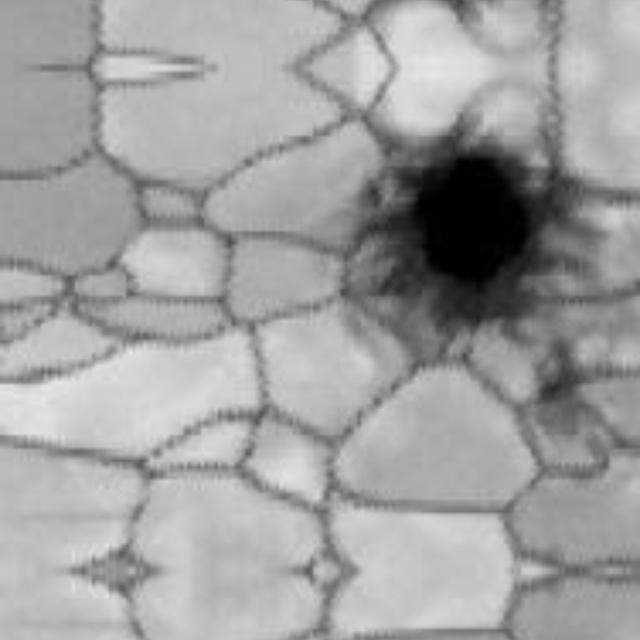good_void: (341, 107, 602, 373), (518, 338, 591, 436)
